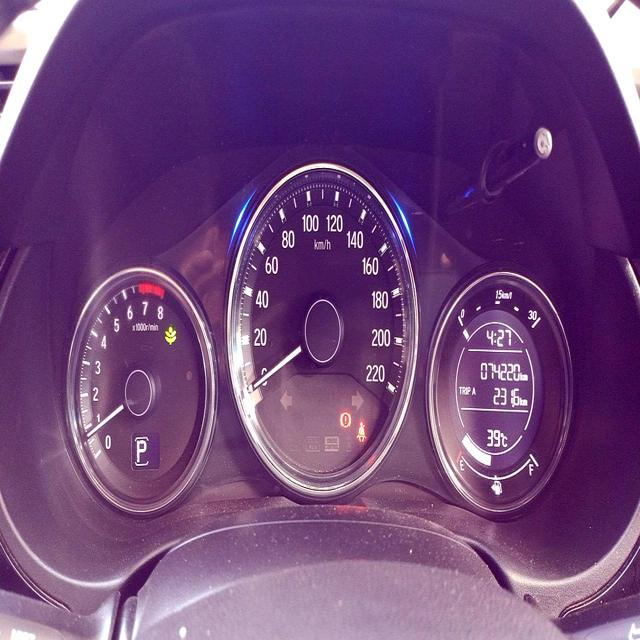odometer: (477, 356, 520, 384)
